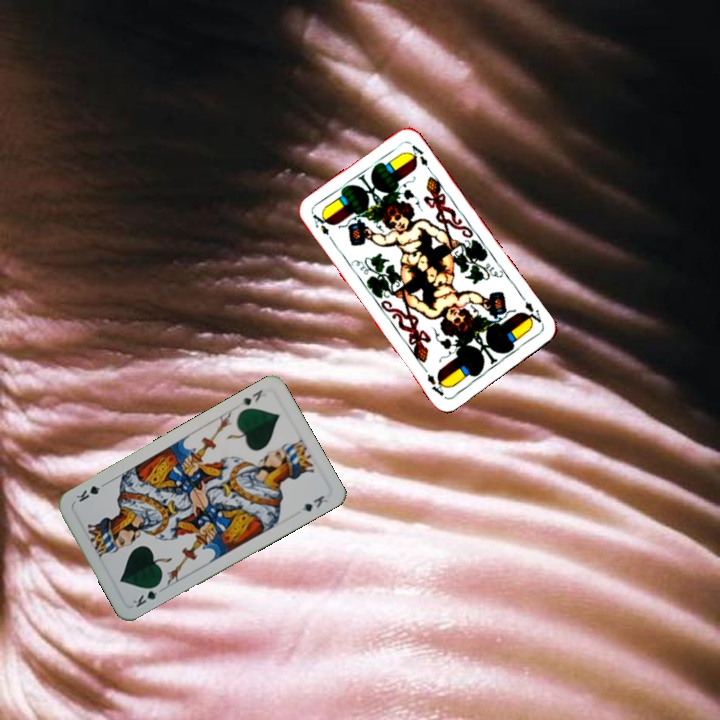EA: (517, 292, 544, 329), (308, 210, 336, 245)
GK: (129, 580, 163, 610), (233, 385, 268, 411)
